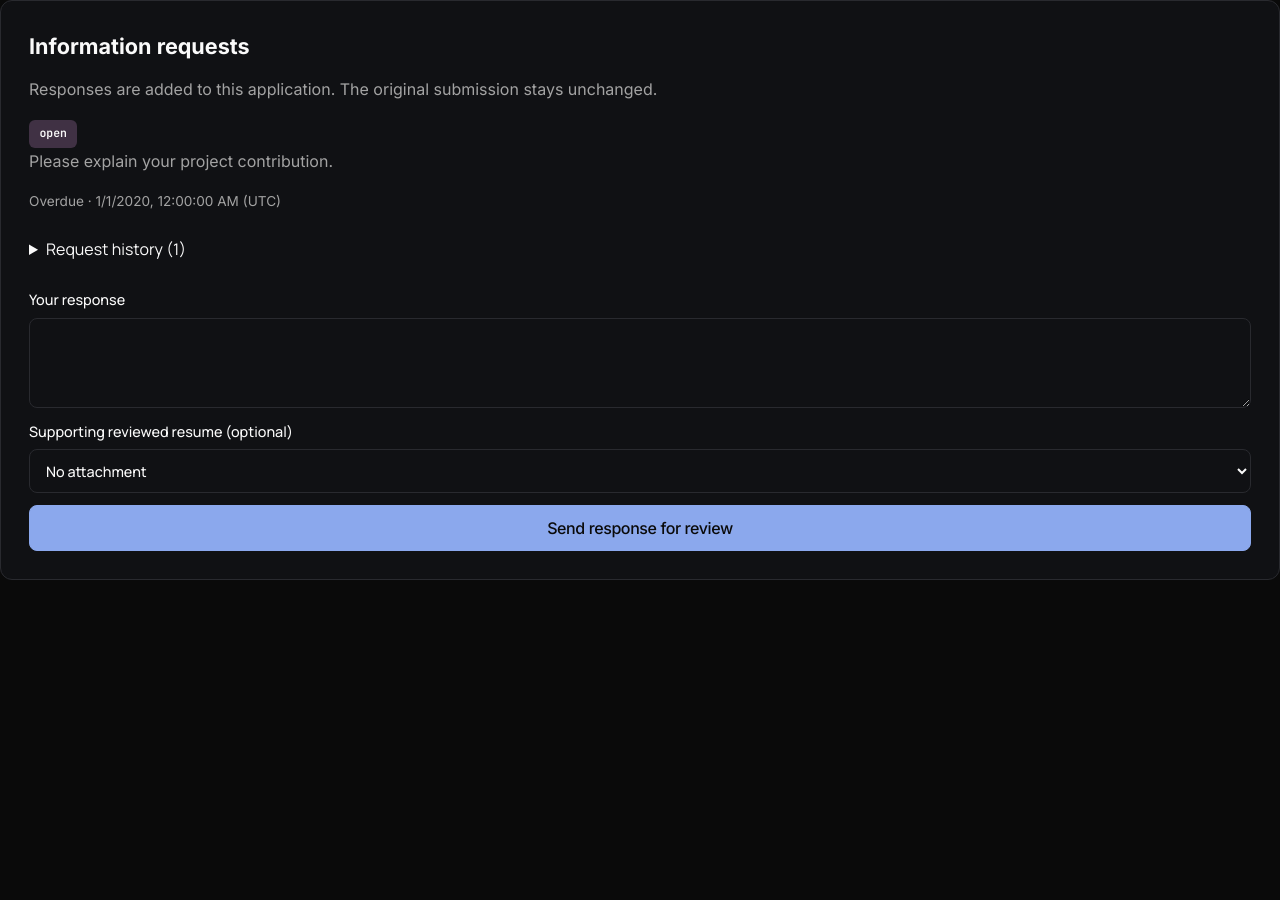
Test: CorrectionPanel › preserves the response text on a stale-write conflict
The image size is (1280, 900).
Expected: the text "Please explain your project contribution." is shown, x1=29 y1=151 x2=333 y2=171
Type "My response remains available after a conflict." into the text box labelled "Your response".
click(640, 363); type("My response remains available after a conflict.")  # box x1=29 y1=318 x2=1251 y2=408
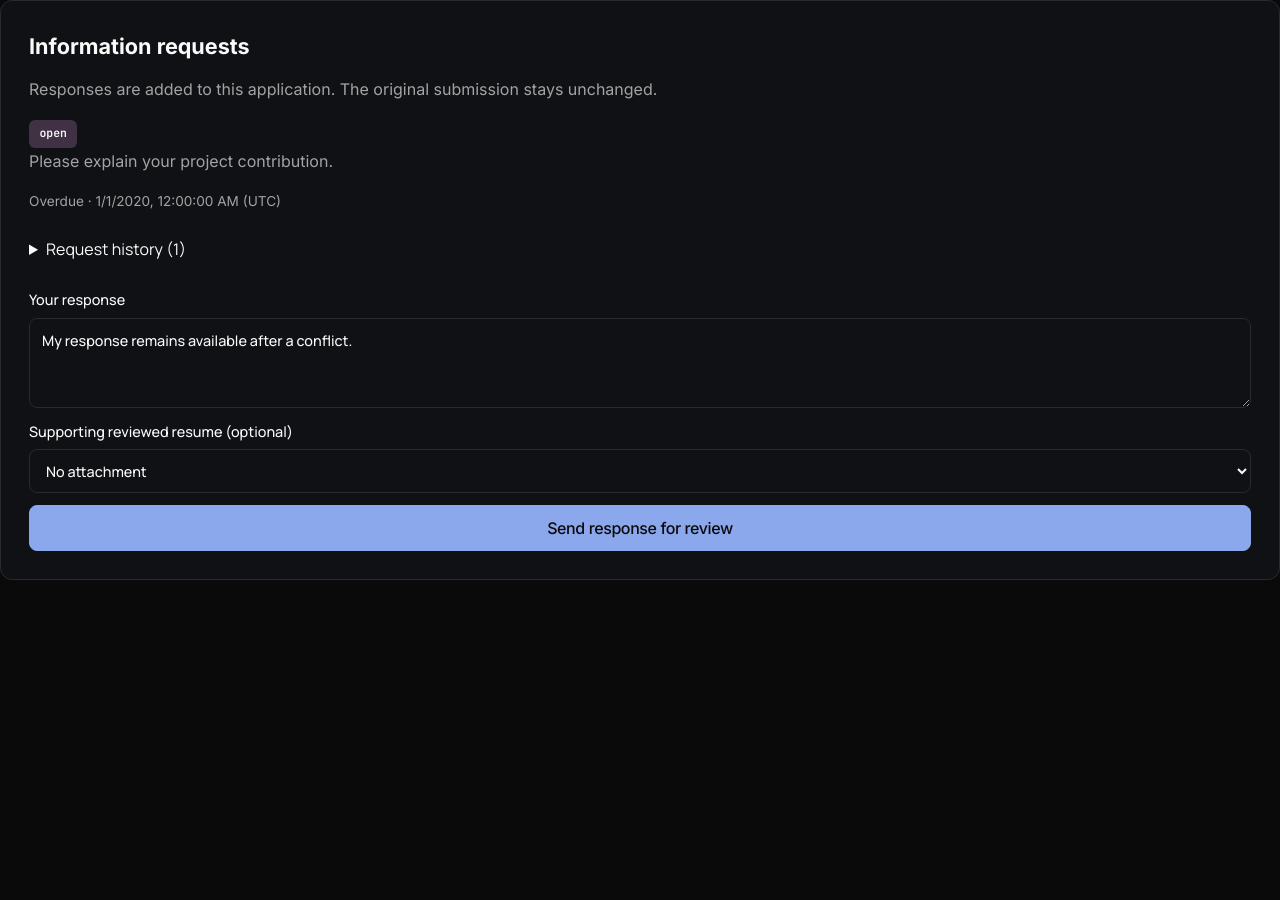
Click the button "Send response for review".
click(640, 528)  # box x1=29 y1=505 x2=1251 y2=551
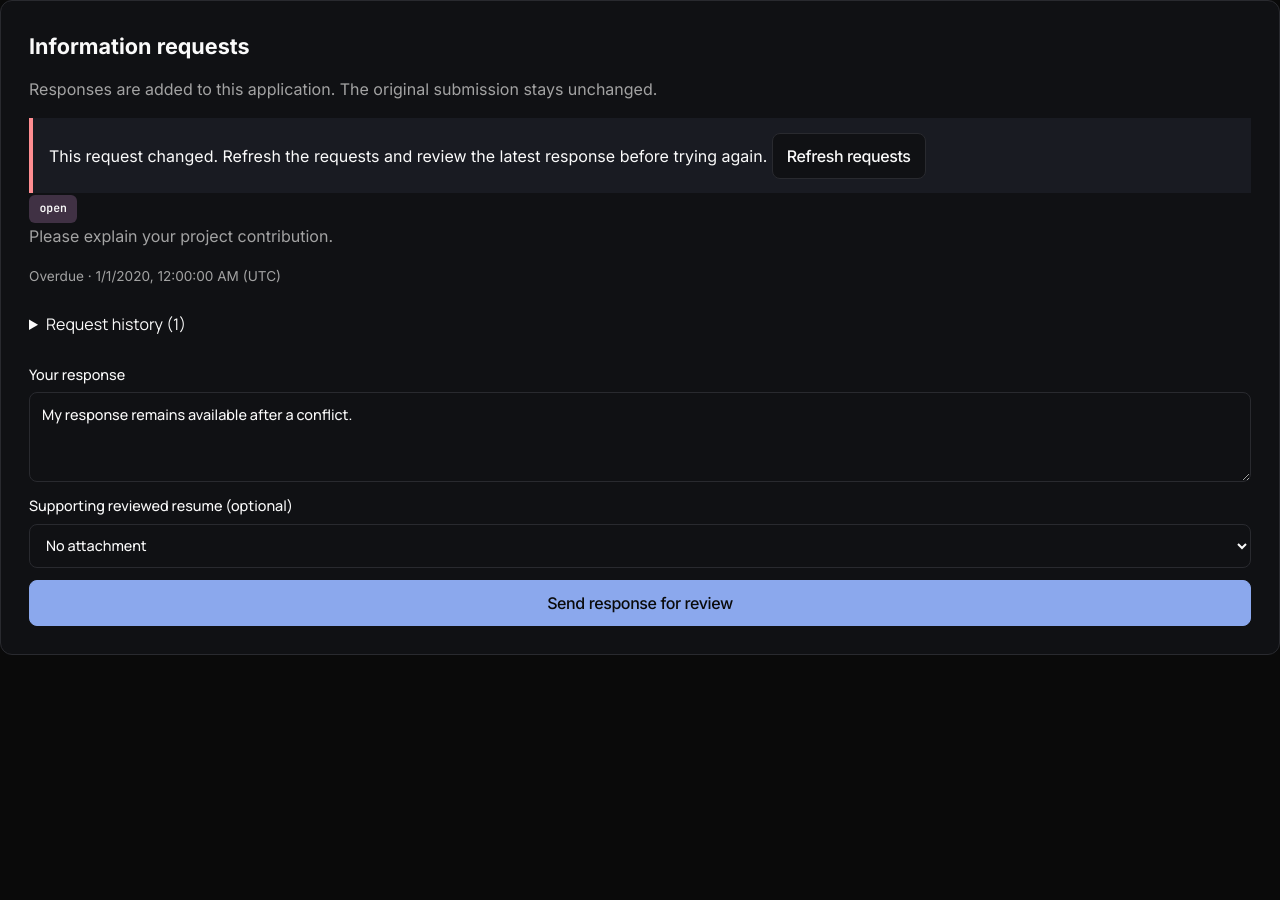
Expected: the text "This request changed" is shown, x1=49 y1=146 x2=767 y2=166
